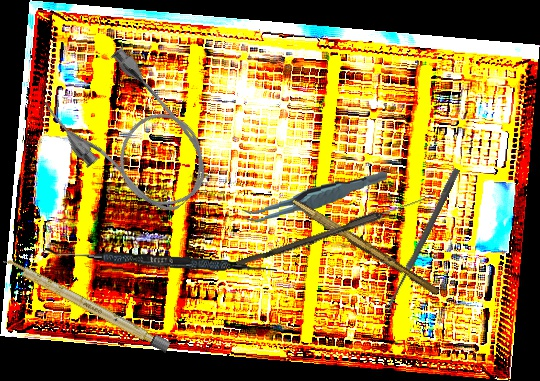Cannula: (35, 38, 229, 236)
Scalpel Handle: (1, 255, 171, 353), (288, 197, 442, 297)
Spatula Surgical: (44, 247, 278, 275)
Surgical Spoon: (235, 191, 433, 271), (383, 167, 461, 313)
Tissue Forceps: (239, 170, 390, 224)
